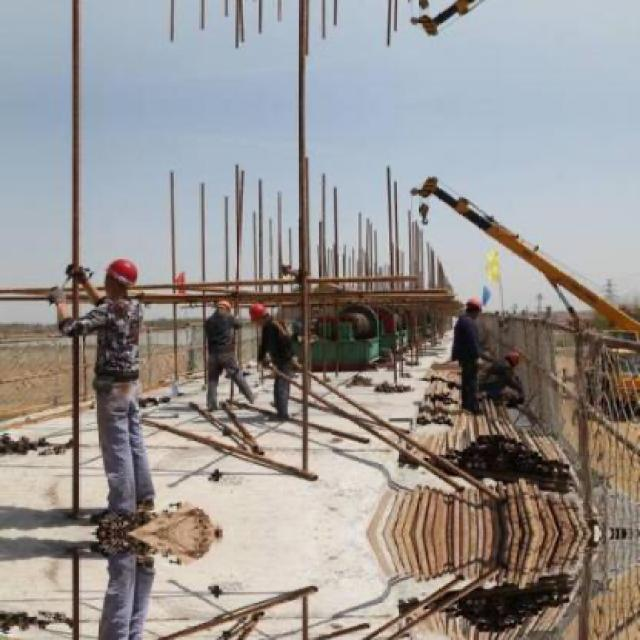con casco: (101, 257, 166, 341), (440, 296, 514, 334), (191, 302, 247, 324), (248, 292, 274, 331)
